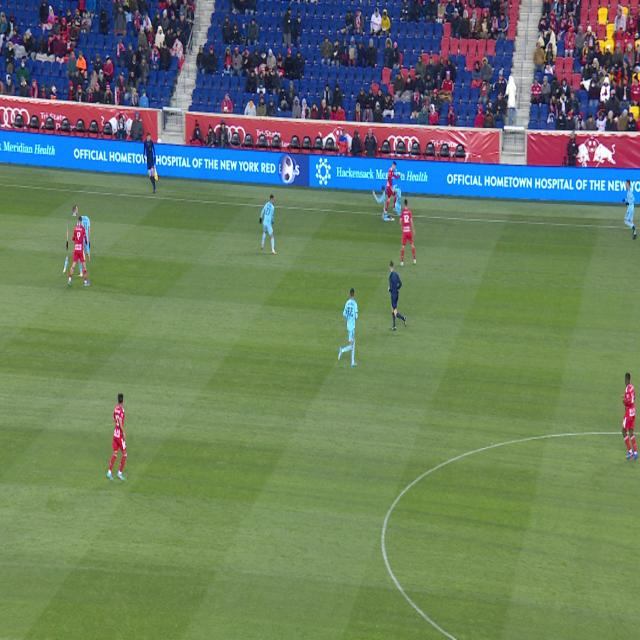player: (107, 394, 127, 481), (338, 289, 358, 367), (68, 216, 90, 286), (622, 373, 639, 459), (399, 199, 416, 266), (62, 205, 78, 275), (260, 194, 277, 254), (385, 162, 401, 215), (623, 180, 636, 239), (373, 185, 394, 221), (75, 258, 80, 277), (80, 224, 80, 226)
referee: (388, 261, 407, 330)
